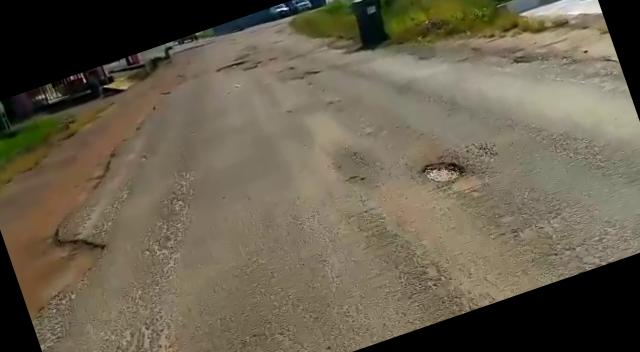pothole: (416, 150, 469, 194), (296, 65, 320, 81)
